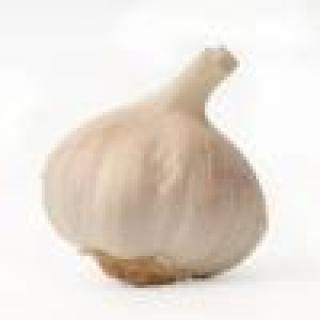Bawang Putih: (40, 43, 280, 292)
